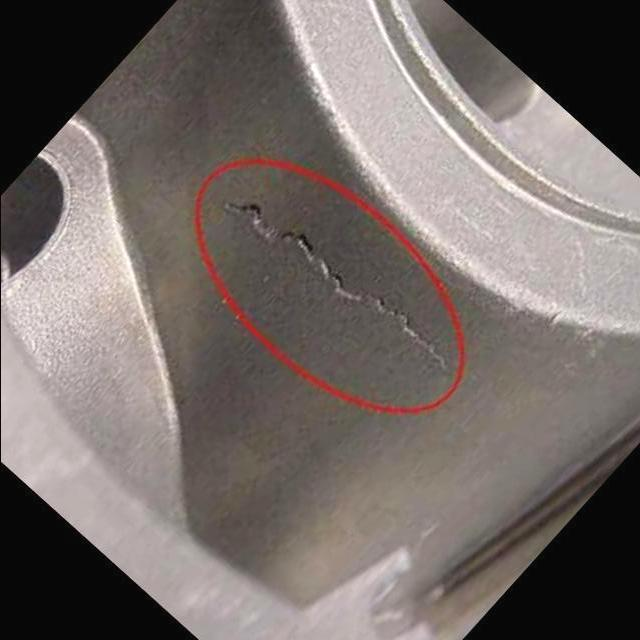defect: (215, 198, 455, 381)
